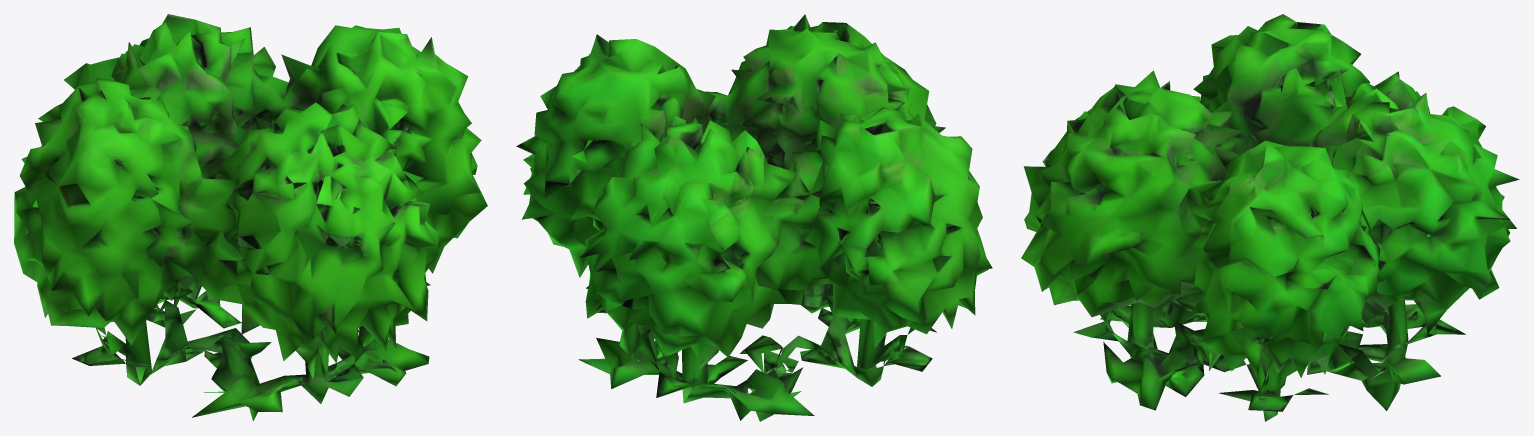
Rendered from bush_usa.glb.
The picture shows the model from 3 angles, left to right: view 1: azimuth 30°, elevation 25°; view 2: azimuth 150°, elevation 25°; view 3: azimuth 270°, elevation 25°; orthographic projection. The views are drawn at different scales.
Bounding box in the file's own units: 1.96 × 1.24 × 2.
1 material, 1 textured.
